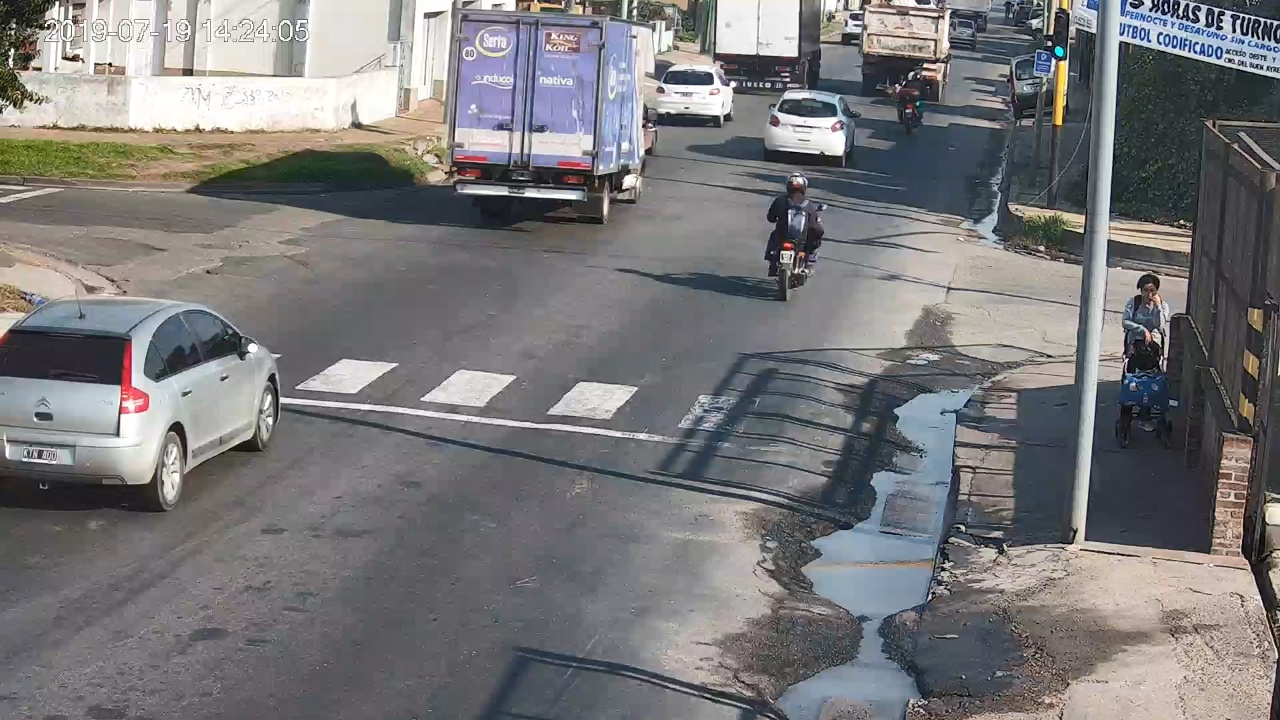car: (3, 296, 281, 514), (764, 89, 861, 168)
motorcycle: (764, 202, 829, 301)
traffic light: (1054, 12, 1068, 60)
truck: (443, 8, 658, 226)
